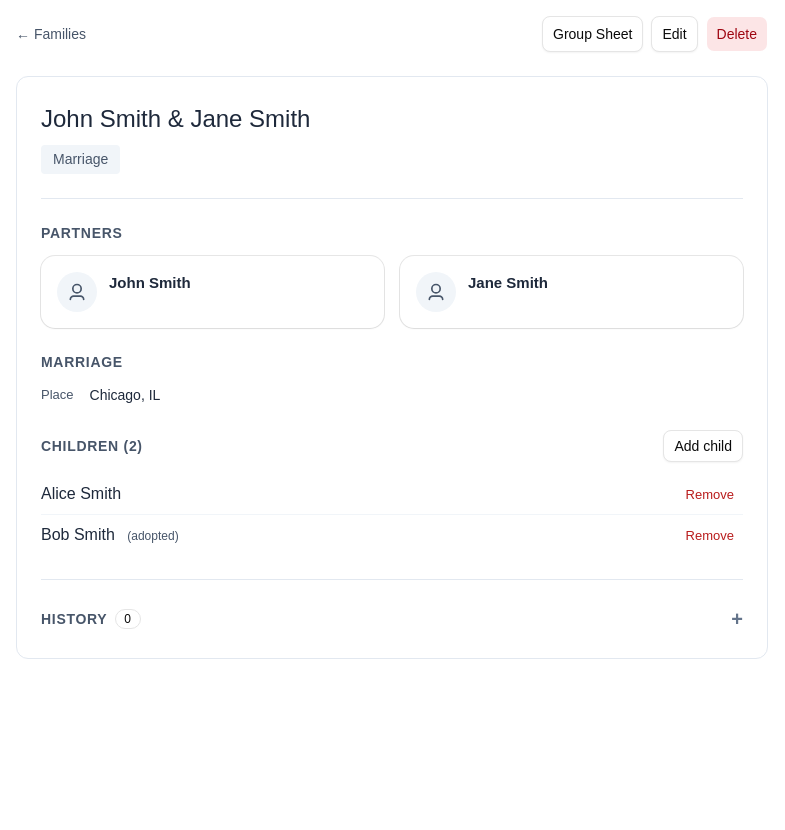
it: Family Detail Page › offers the Restore tab on the mainline
Click the button "History 0 +".
click(74, 618)  # box left=41, top=604, right=743, bottom=634
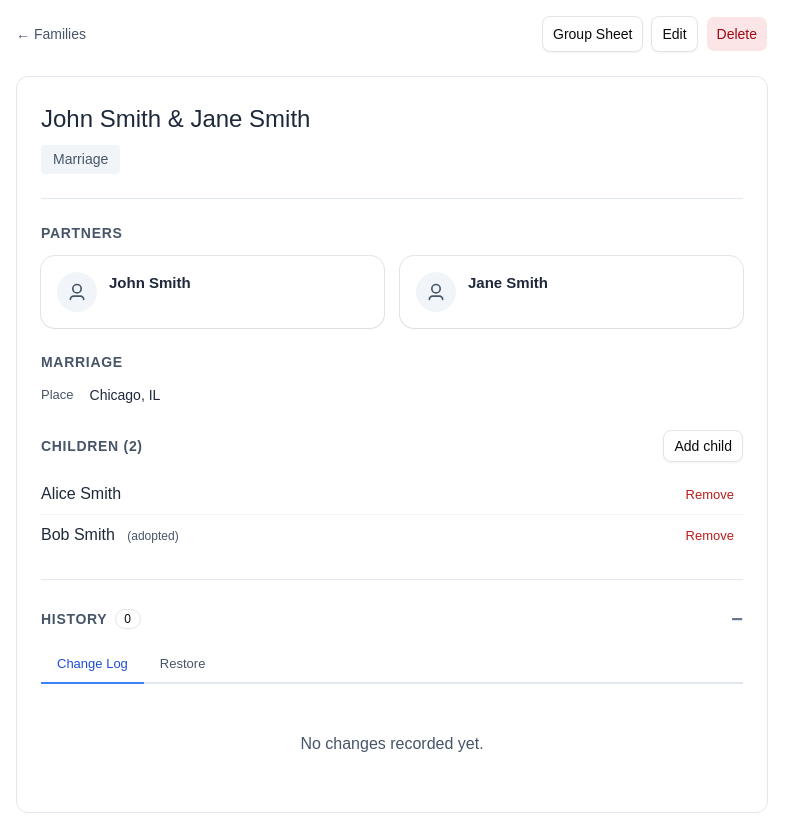
expect the button "Restore" is shown: met, box left=144, top=646, right=221, bottom=684
